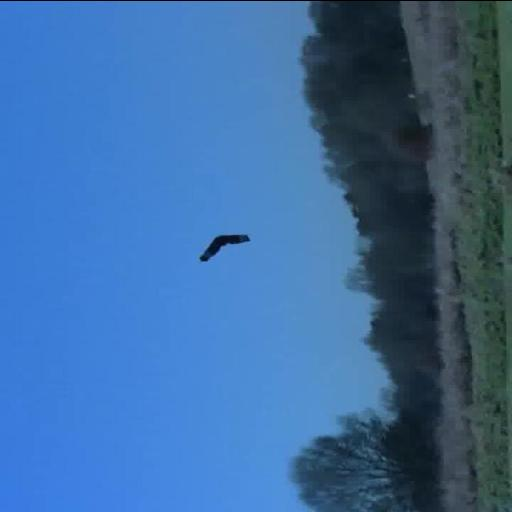uav: (194, 226, 258, 264)
